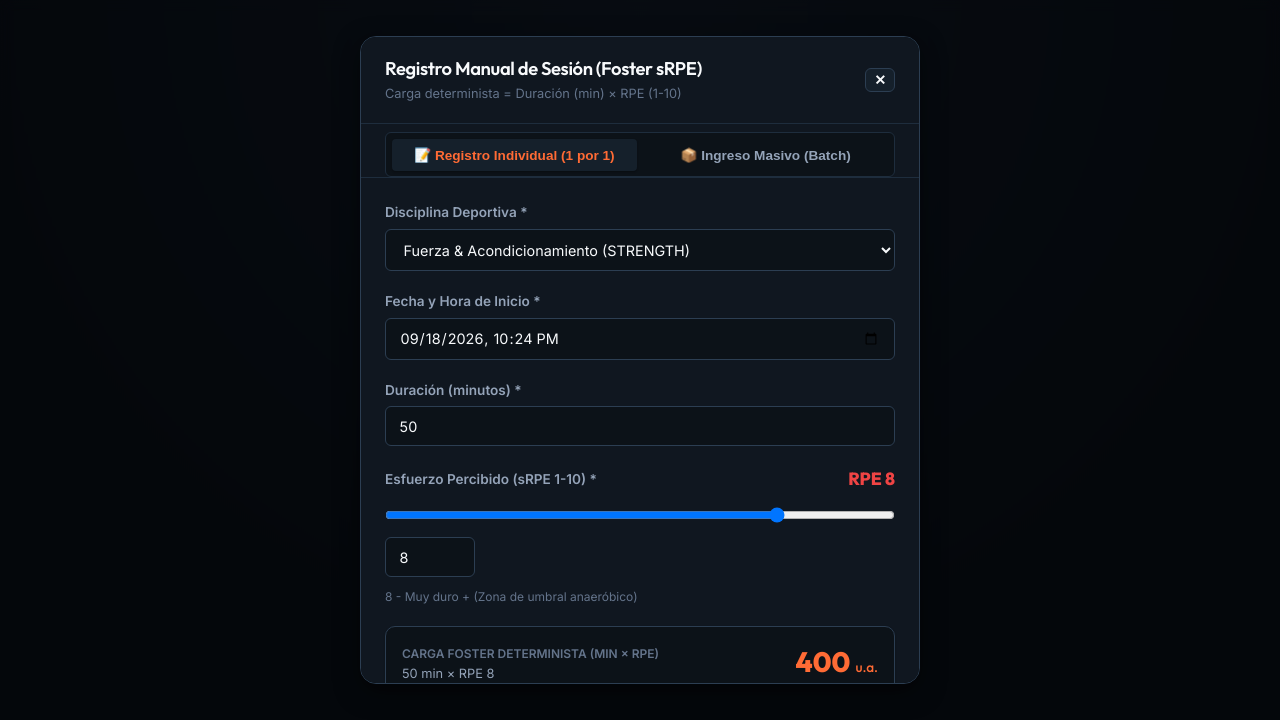
Test: ManualActivityModal Component (Foster sRPE Logging) › updates load dynamically when duration and RPE change (30 min * 4 RPE = 120 u.a.)
Replace the text in the number field labelled "Duración (minutos) *" with "30": (640, 426) [385,406,895,446]
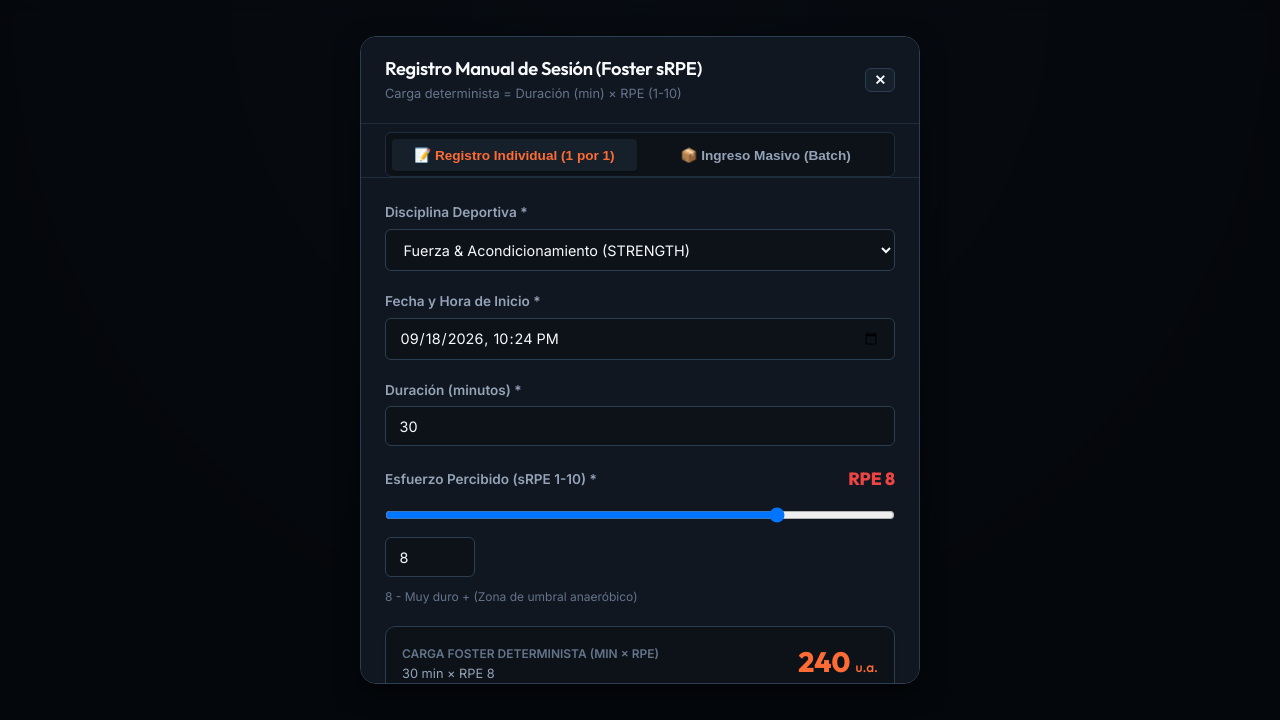
Replace the text in the number field named "Entrada numérica de RPE" with "4": (430, 557) [385,537,475,577]
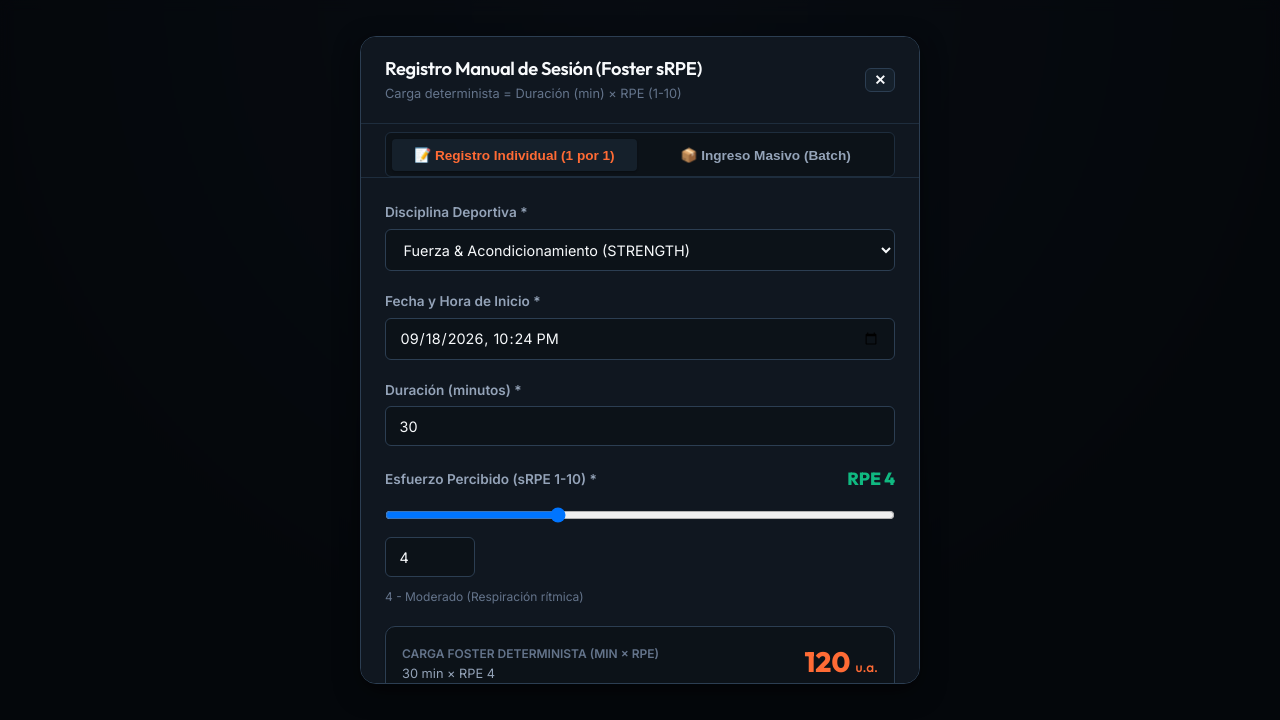
Now the element with test id "calculated-foster-load" reads "120 u.a.", box [804,641,878,683]
